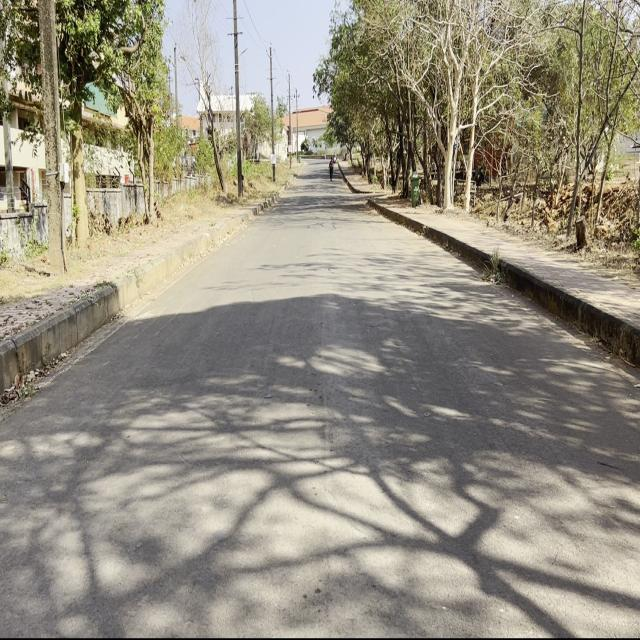Road: (4, 162, 638, 625)
